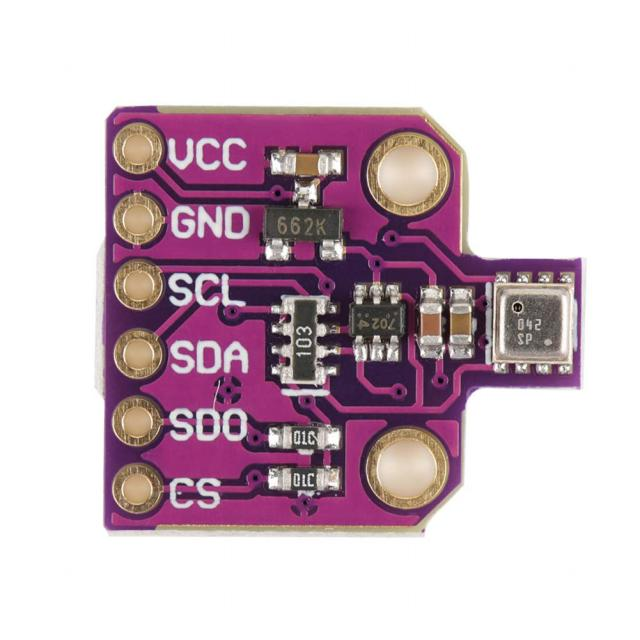4439: (261, 195, 351, 257)
IC: (346, 290, 408, 350)
capacitor 1V5: (281, 146, 340, 183), (416, 295, 451, 354), (448, 293, 477, 352)
clock Q1: (488, 271, 576, 379)
resistor IR1: (279, 293, 324, 383), (276, 459, 331, 497), (278, 423, 328, 454)
